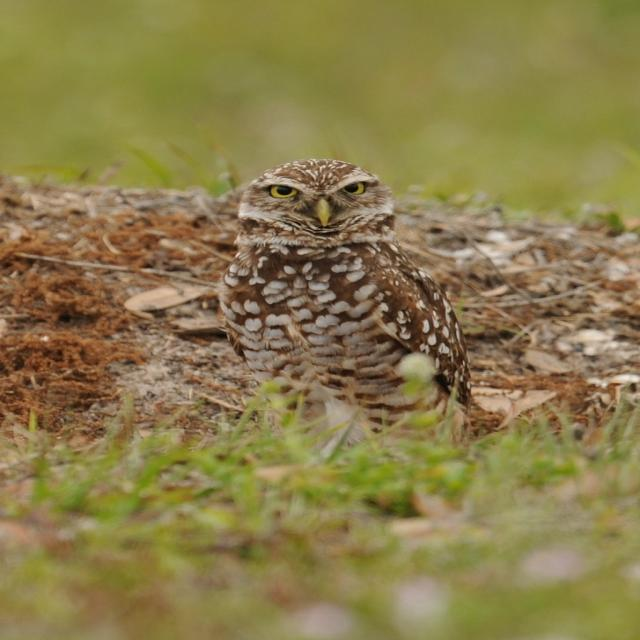bird: (224, 157, 473, 456)
